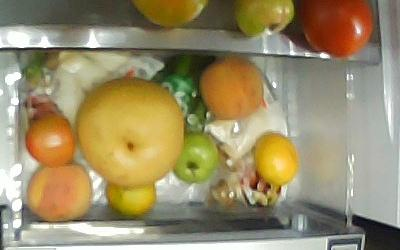peach: (198, 57, 264, 121), (27, 162, 92, 222)
pear: (76, 77, 183, 187)
tangerine: (254, 131, 300, 187), (105, 181, 157, 217)
tomato: (25, 113, 76, 166), (174, 131, 220, 183)
